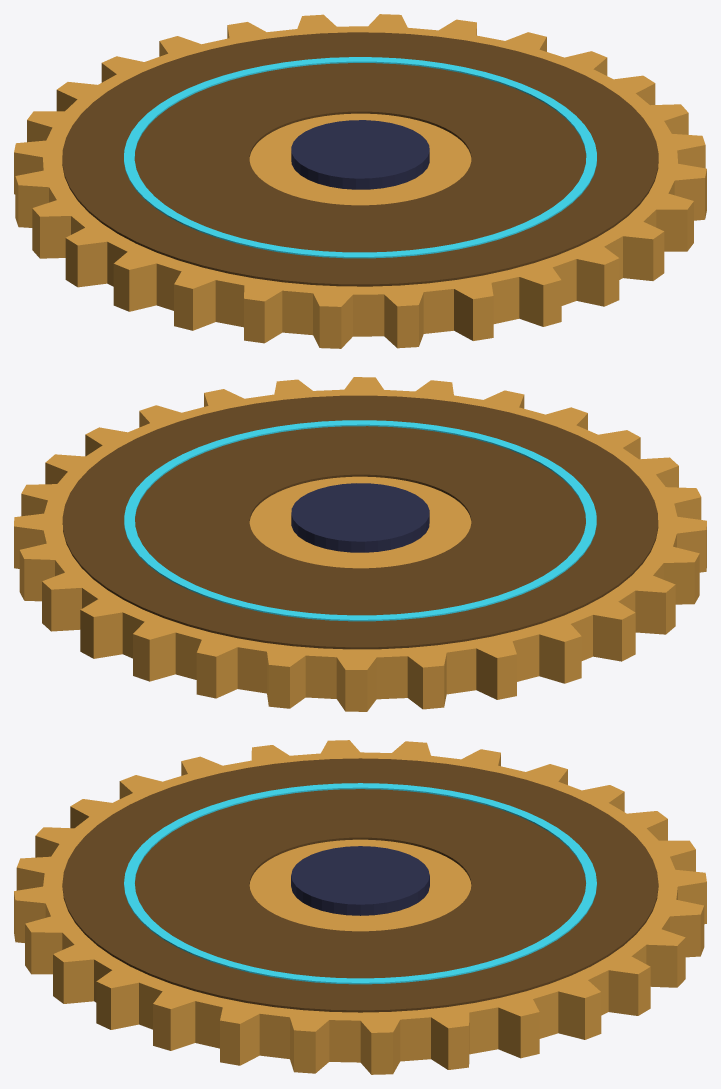
The model's file is Gear_Big45.obj.
The picture shows the model from 3 angles, top to bottom: view 1: azimuth 30°, elevation 25°; view 2: azimuth 150°, elevation 25°; view 3: azimuth 270°, elevation 25°; orthographic projection.
Parts seen in each view (by area): view 1: Gear_Big45; view 2: Gear_Big45; view 3: Gear_Big45.
Boxes of the visible parts, left/top/right/bottom form: Gear_Big45: left=14, top=14, right=706, bottom=348; Gear_Big45: left=14, top=377, right=706, bottom=711; Gear_Big45: left=14, top=740, right=706, bottom=1074.
Bounding box in the file's own units: 9 × 0.76 × 9.
